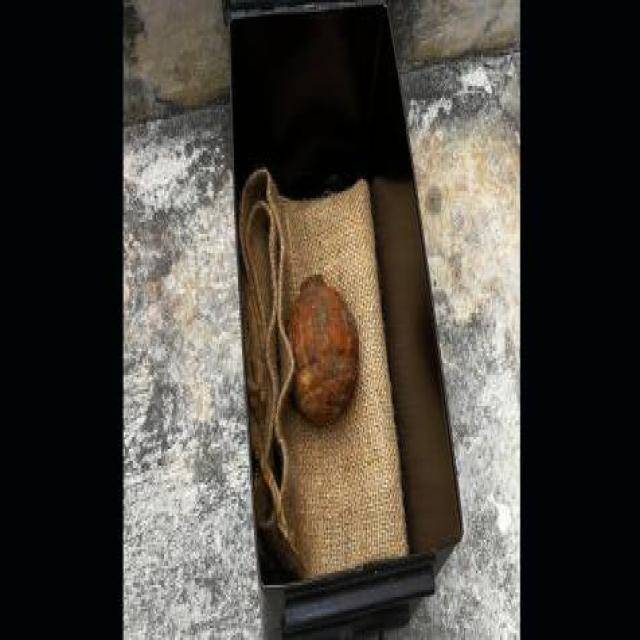grenade: (286, 273, 361, 431)
